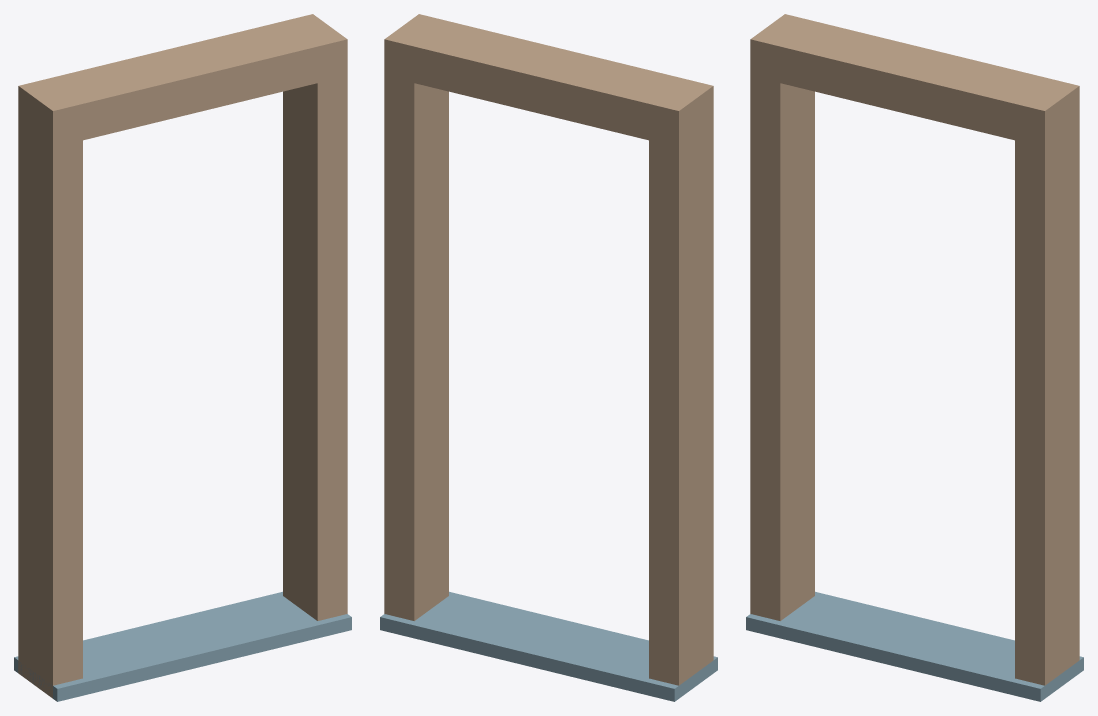
Rendered from prop-doorway.glb.
The picture shows the model from 3 angles, left to right: view 1: azimuth 30°, elevation 25°; view 2: azimuth 150°, elevation 25°; view 3: azimuth 330°, elevation 25°; orthographic projection.
Visible parts, largest first — view 1: left-post, right-post, lintel, threshold; view 2: left-post, right-post, lintel, threshold; view 3: right-post, left-post, lintel, threshold.
Boxes of the visible parts, x1,y1,x2,y2 form: left-post: (18, 99, 82, 698); right-post: (283, 52, 347, 620); lintel: (18, 14, 347, 147); threshold: (14, 591, 351, 701); left-post: (649, 99, 713, 685); right-post: (384, 52, 448, 620); lintel: (384, 14, 713, 147); threshold: (380, 591, 717, 701); right-post: (1015, 99, 1079, 685); left-post: (750, 52, 814, 620); lintel: (750, 14, 1079, 147); threshold: (746, 591, 1083, 701).
Size of the model in its own units: 1.18 by 2.25 by 0.3.
